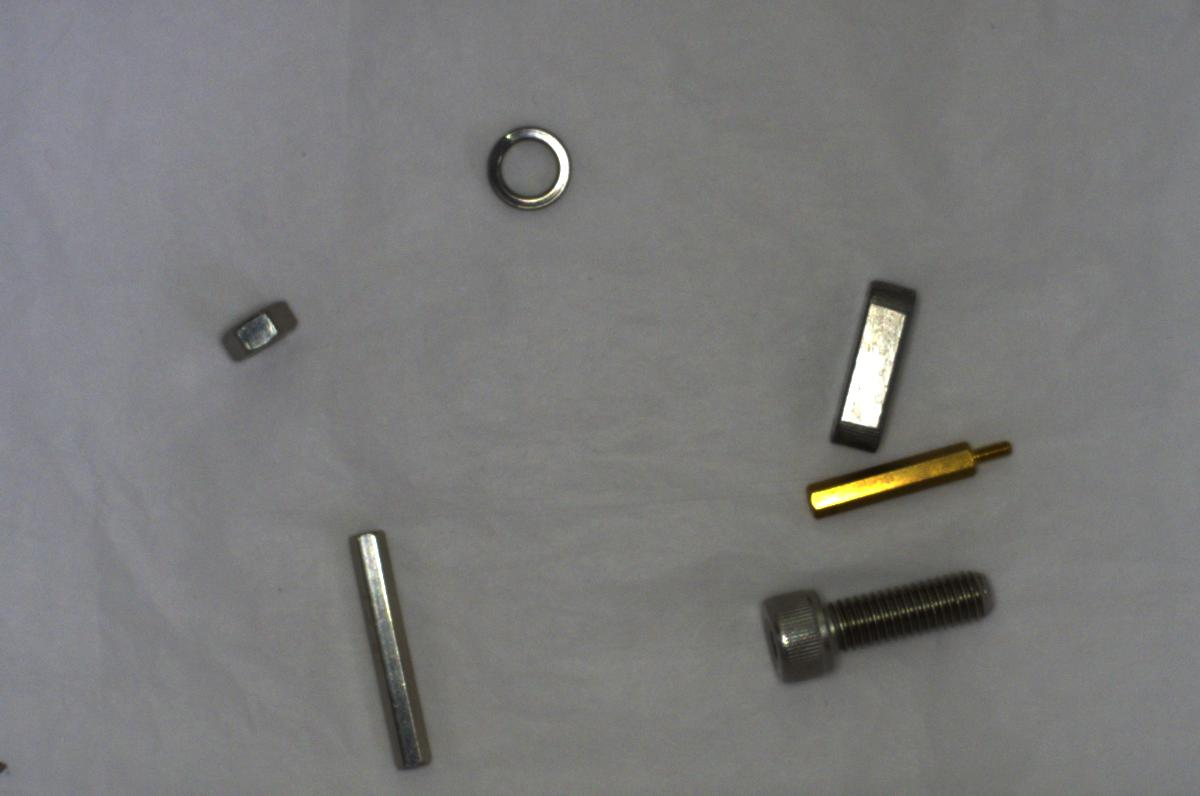Double hexagonal column: (341, 522, 433, 779)
Hexagon nut: (219, 286, 300, 366)
Hexagon pillar: (800, 427, 1019, 523)
Hexagon screw: (748, 555, 1007, 692)
Keybar: (820, 270, 918, 454)
Spring washer: (473, 116, 586, 219)
